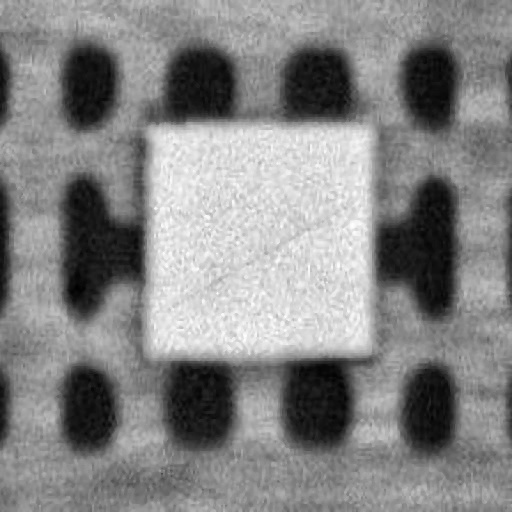DIE_CRACK: (250, 133, 512, 204)
